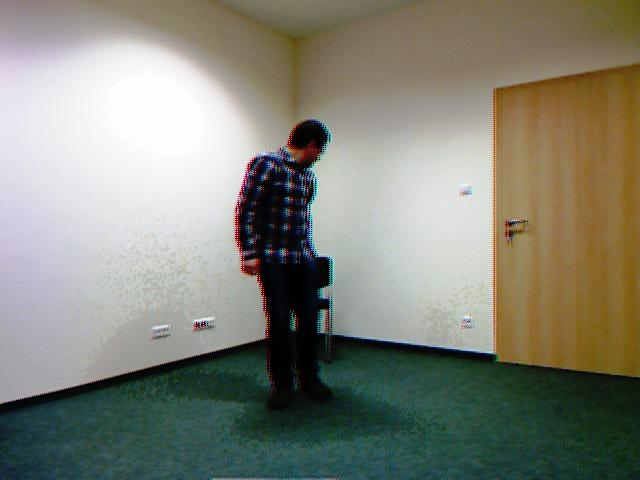walking: (227, 100, 342, 421)
